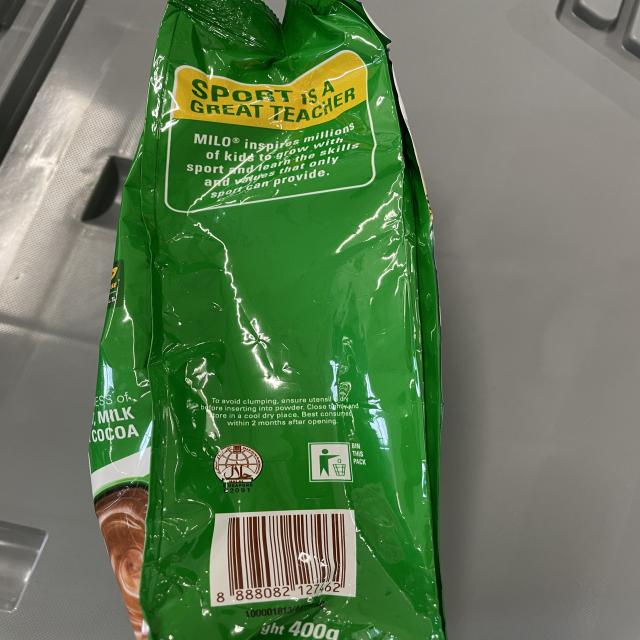object_name: (135, 3, 445, 640)
